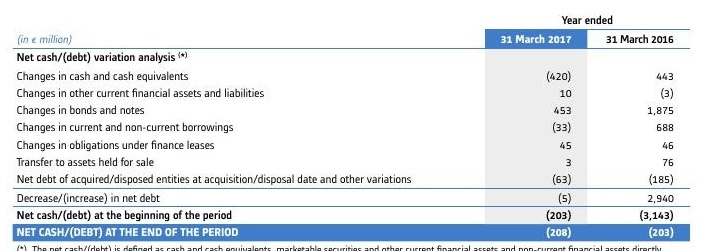table: (0, 0, 701, 251)
